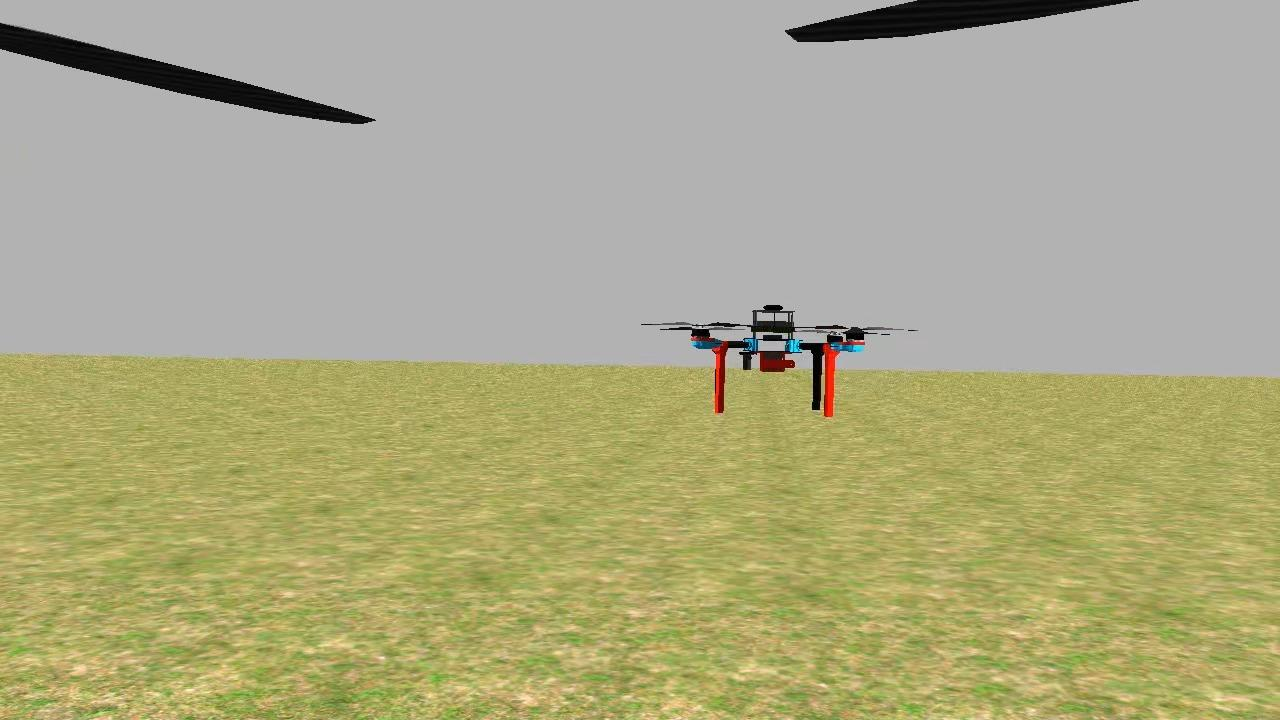UAV: (667, 292, 880, 430)
